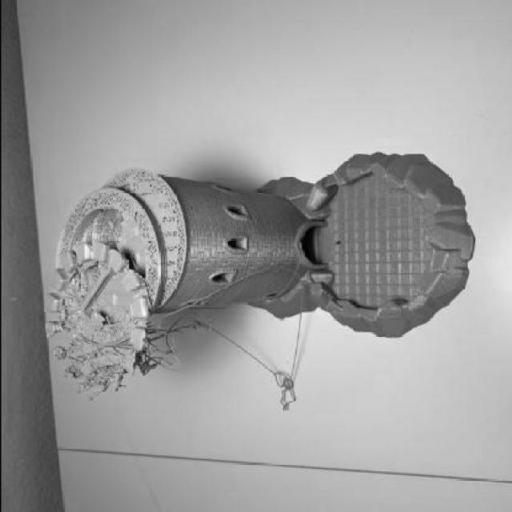spaghetti_and_stringing: (46, 314, 212, 395), (167, 267, 301, 314), (58, 261, 104, 310), (103, 206, 123, 242)
